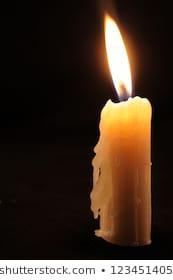fire: (102, 10, 134, 99)
